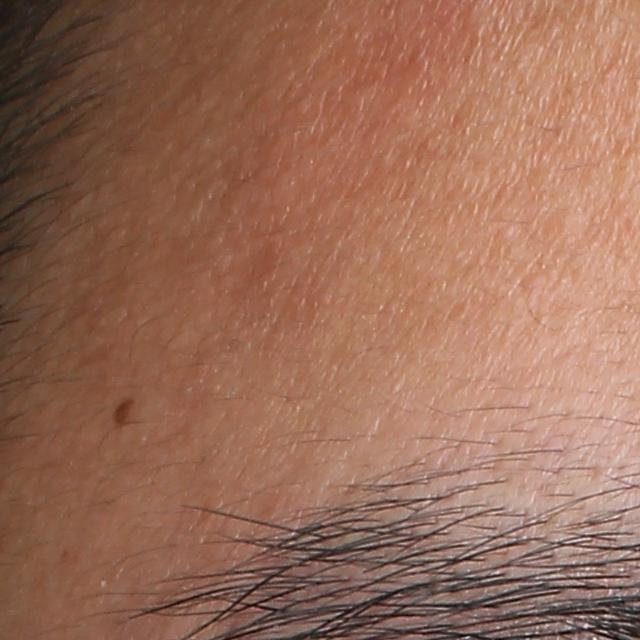nevus: (109, 395, 137, 436)
